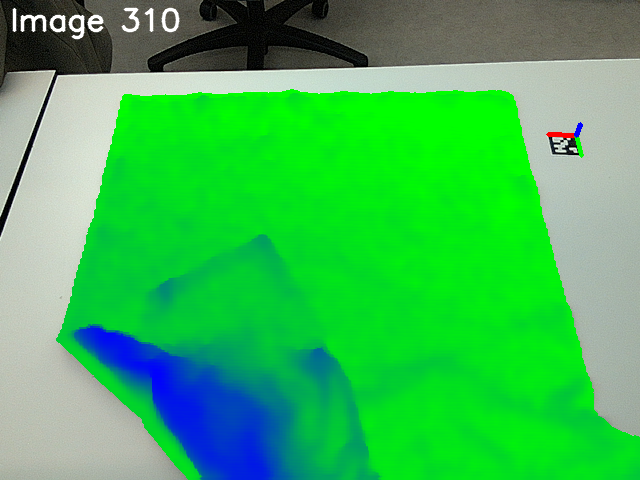V: (235, 215, 289, 272)
